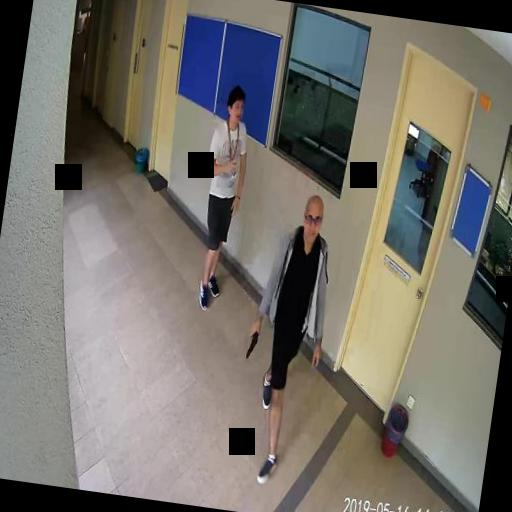Handgun: (245, 324, 258, 356)
